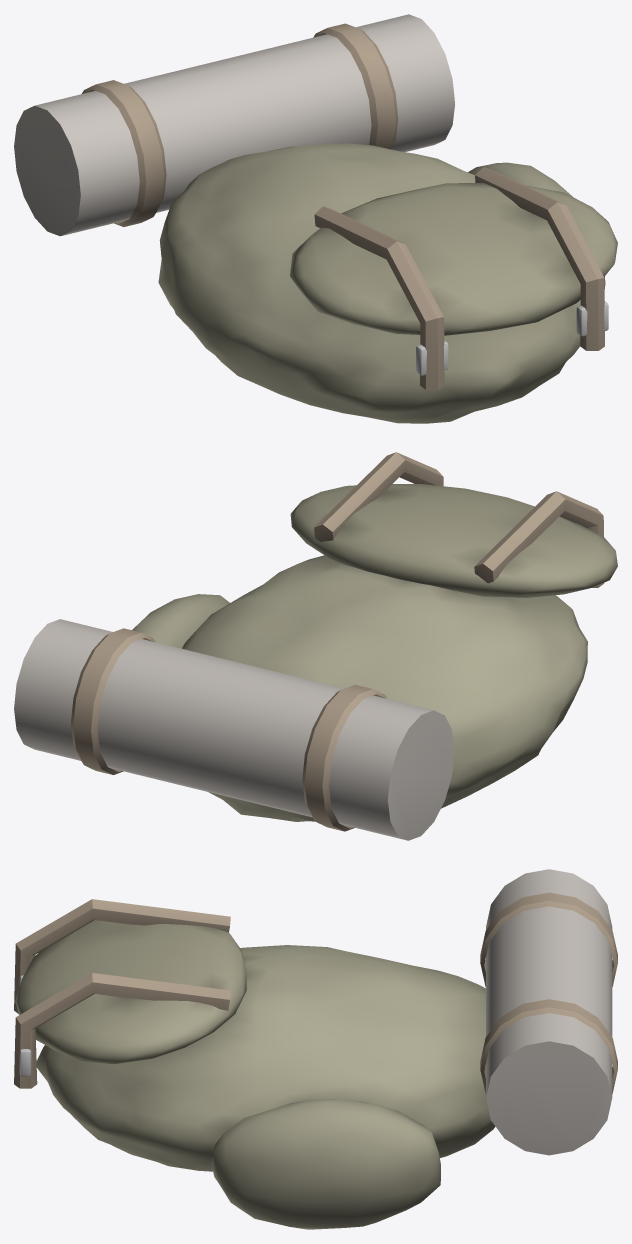
Rendered from loot-sack.glb.
The picture shows the model from 3 angles, top to bottom: view 1: azimuth 30°, elevation 25°; view 2: azimuth 150°, elevation 25°; view 3: azimuth 270°, elevation 25°; orthographic projection. The views are drawn at different scales.
Visible parts, largest first — view 1: Body_lod0; view 2: Body_lod0; view 3: Body_lod0.
Boxes of the visible parts, left/top/right/bottom form: Body_lod0: left=14, top=14, right=617, bottom=423; Body_lod0: left=14, top=452, right=617, bottom=840; Body_lod0: left=14, top=869, right=617, bottom=1229.
Size of what is drawn, in the model's own units: 0.4601 by 0.2367 by 0.623.
